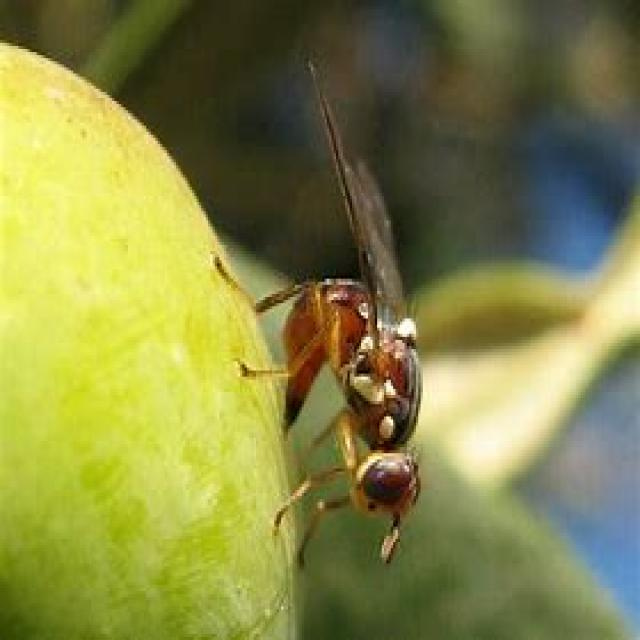Olive Fruit Fly: (224, 61, 421, 563)
